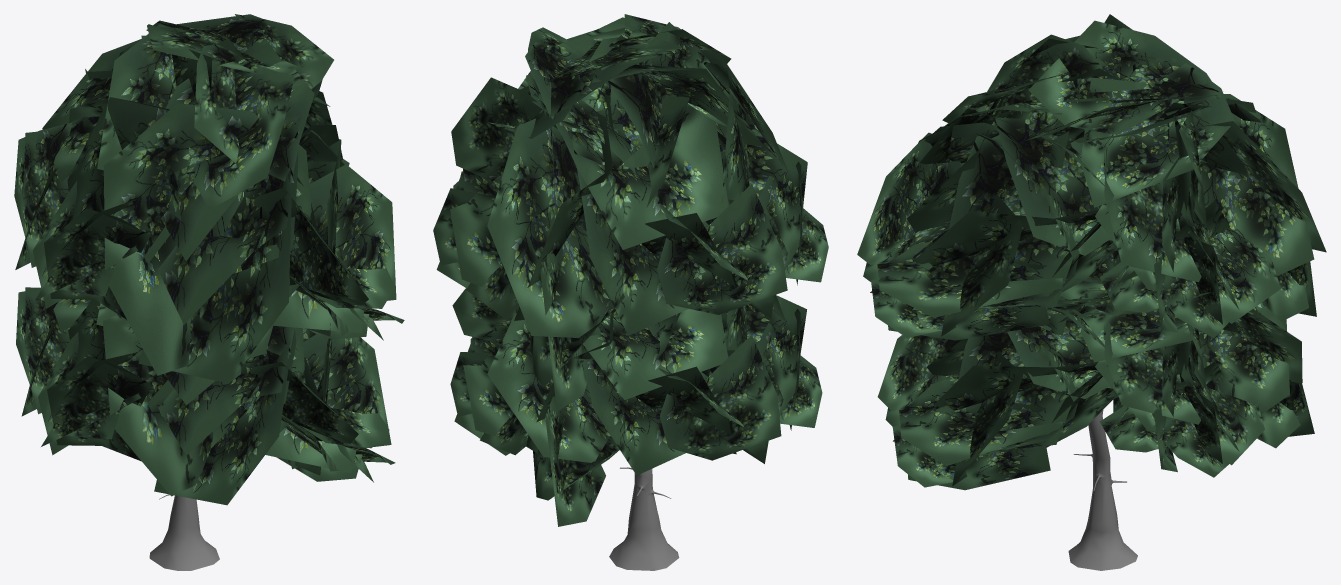
Rendered from parasolltree_lod0.fbx.
3 views of the same model, side by side, from view 1: azimuth 30°, elevation 25°; view 2: azimuth 150°, elevation 25°; view 3: azimuth 270°, elevation 25° (orthographic).
Parts seen in each view (by area): view 1: Default_Layer; view 2: Default_Layer; view 3: Default_Layer.
Boxes of the visible parts, bbox=[...] form: Default_Layer: bbox=[14, 14, 404, 570]; Default_Layer: bbox=[433, 14, 828, 570]; Default_Layer: bbox=[857, 14, 1326, 570].
Bounding box in the file's own units: 934 × 1388 × 1140.
